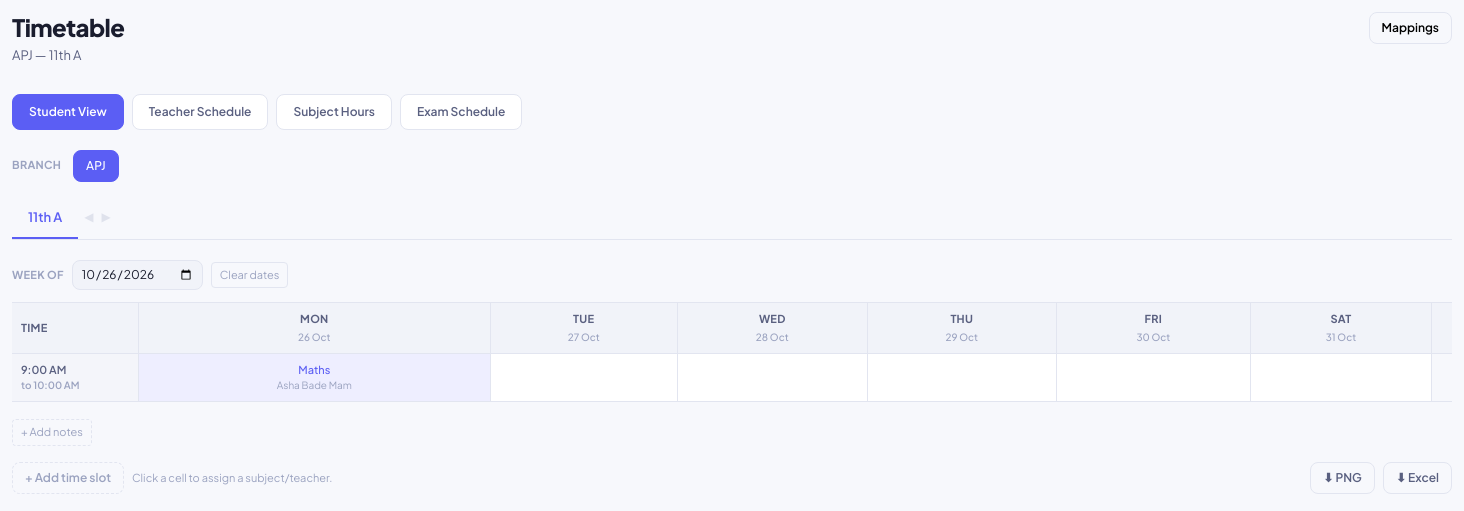
Test: TimetablePage — teacher with Edit timetable › can add and edit exam-schedule entries but not send reminders
Click the button "Exam Schedule" at (461, 112), box [400,94,522,130]
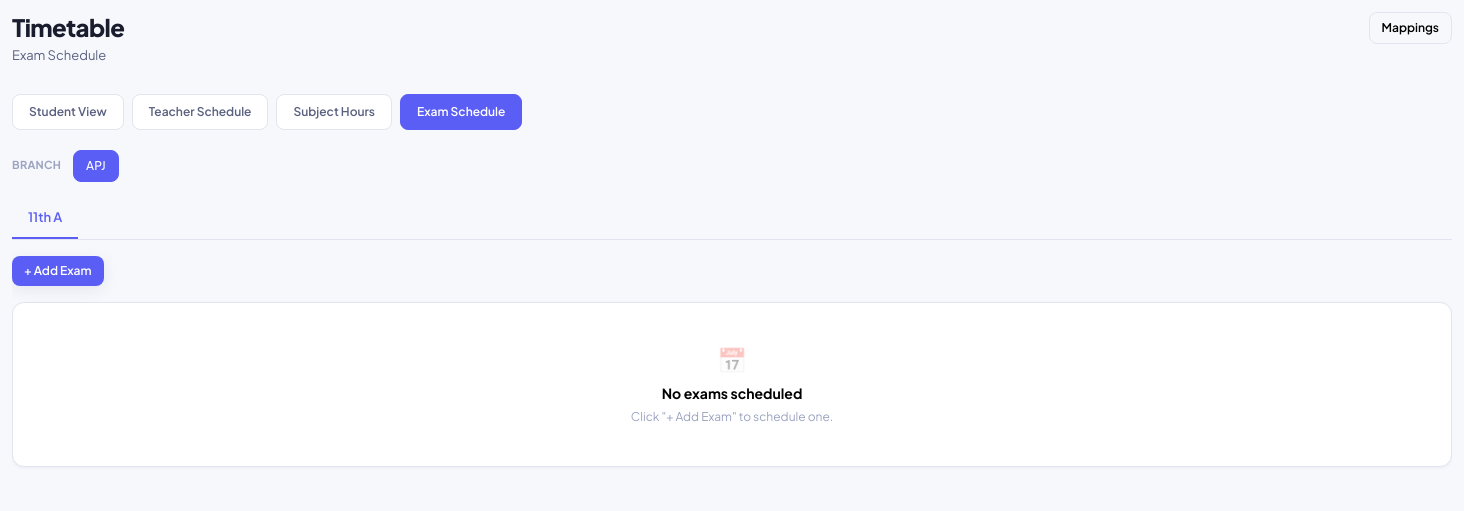
expect the button "+ Add Exam" is shown: met, box [12,256,104,286]
